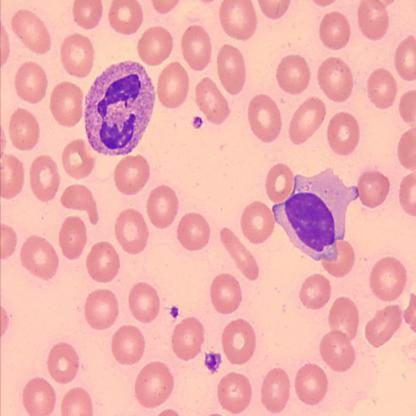Atypical lymphocyte: (272, 172, 358, 259), (84, 57, 155, 160)
